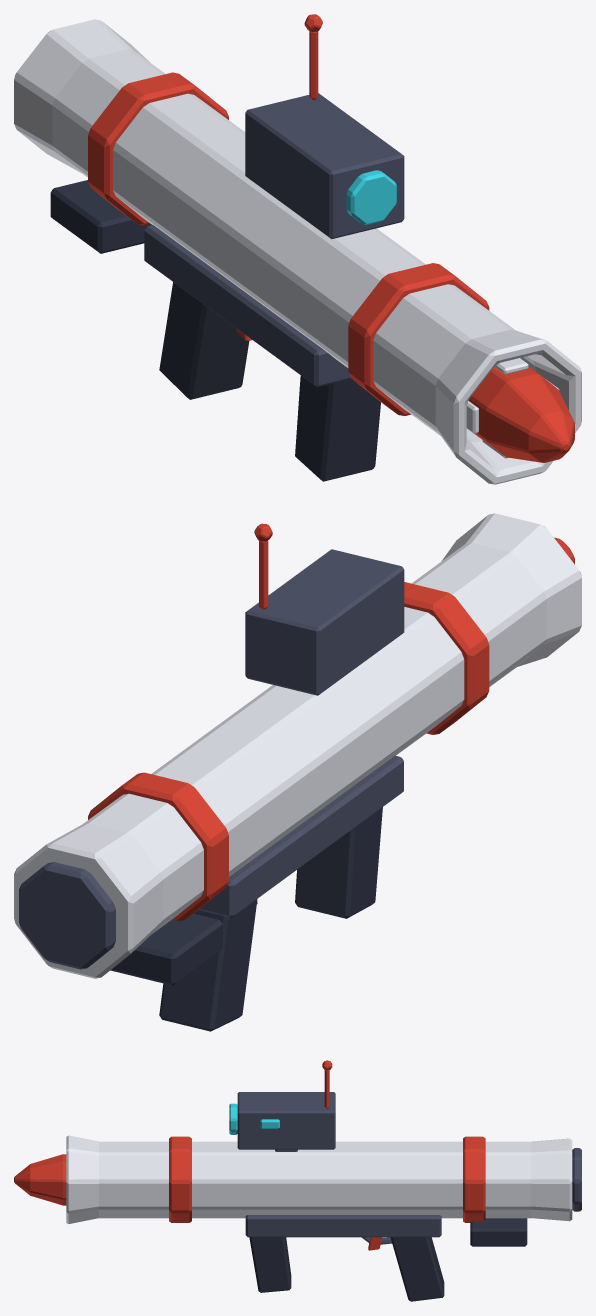
File: myw_missilelauncher.glb
3 renders of one model, top to bottom at view 1: azimuth 30°, elevation 25°; view 2: azimuth 150°, elevation 25°; view 3: azimuth 270°, elevation 25°, orthographic. The views are drawn at different scales.
Visible parts, largest first — view 1: Tube, Grips, Sight, Missile; view 2: Tube, Grips, Sight; view 3: Tube, Grips, Sight, Missile.
Boxes of the visible parts, x1=… form: Tube: x1=14, y1=19, x2=581, y2=484; Grips: x1=50, y1=180, x2=380, y2=481; Sight: x1=245, y1=14, x2=404, y2=238; Missile: x1=466, y1=358, x2=574, y2=462; Tube: x1=14, y1=513, x2=581, y2=978; Grips: x1=110, y1=755, x2=403, y2=1031; Sight: x1=245, y1=523, x2=404, y2=695; Tube: x1=66, y1=1135, x2=581, y2=1223; Grips: x1=245, y1=1215, x2=527, y2=1301; Sight: x1=229, y1=1060, x2=335, y2=1151; Missile: x1=14, y1=1154, x2=66, y2=1205.
Size of the model in its own units: 0.5119 by 1.63 by 3.48.
